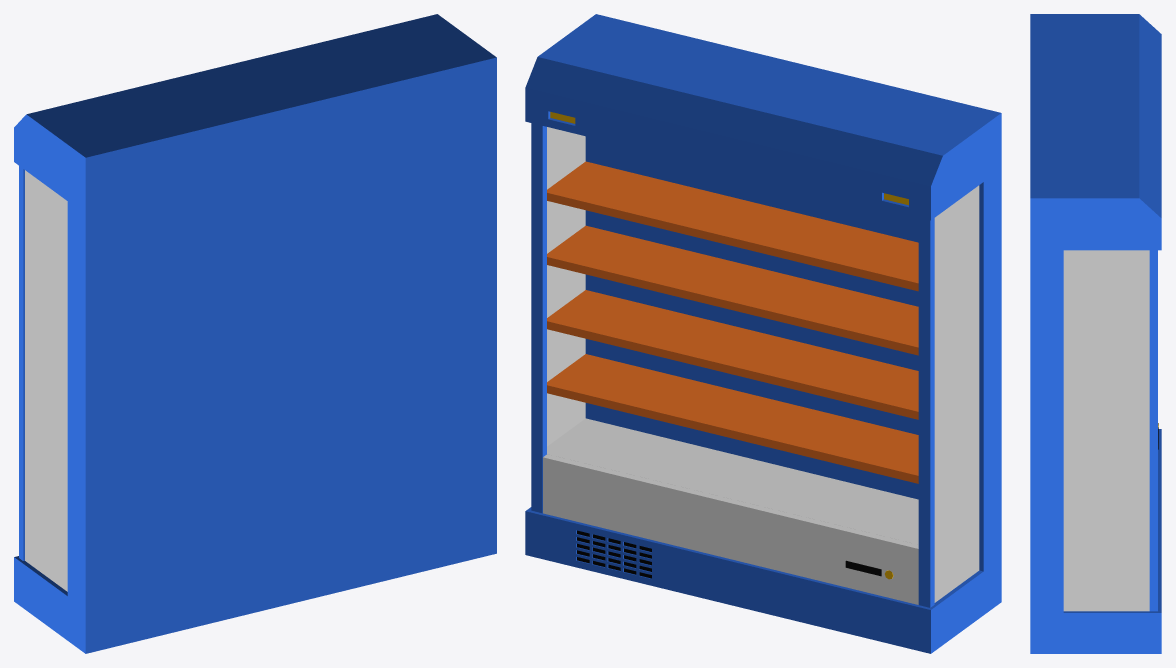
The model's file is Refrigerated Display Case.fbx.
The picture shows the model from 3 angles, left to right: view 1: azimuth 30°, elevation 25°; view 2: azimuth 150°, elevation 25°; view 3: azimuth 270°, elevation 25°; orthographic projection. The views are drawn at different scales.
Visible parts, largest first — view 1: Node 0; view 2: Node 0; view 3: Node 0.
Boxes of the visible parts, x1,y1,x2,y2 form: Node 0: (14,14,496,653); Node 0: (525,14,1001,653); Node 0: (1030,14,1161,653).
Size of the model in its own units: 0.5857 by 2.24 by 1.94.
